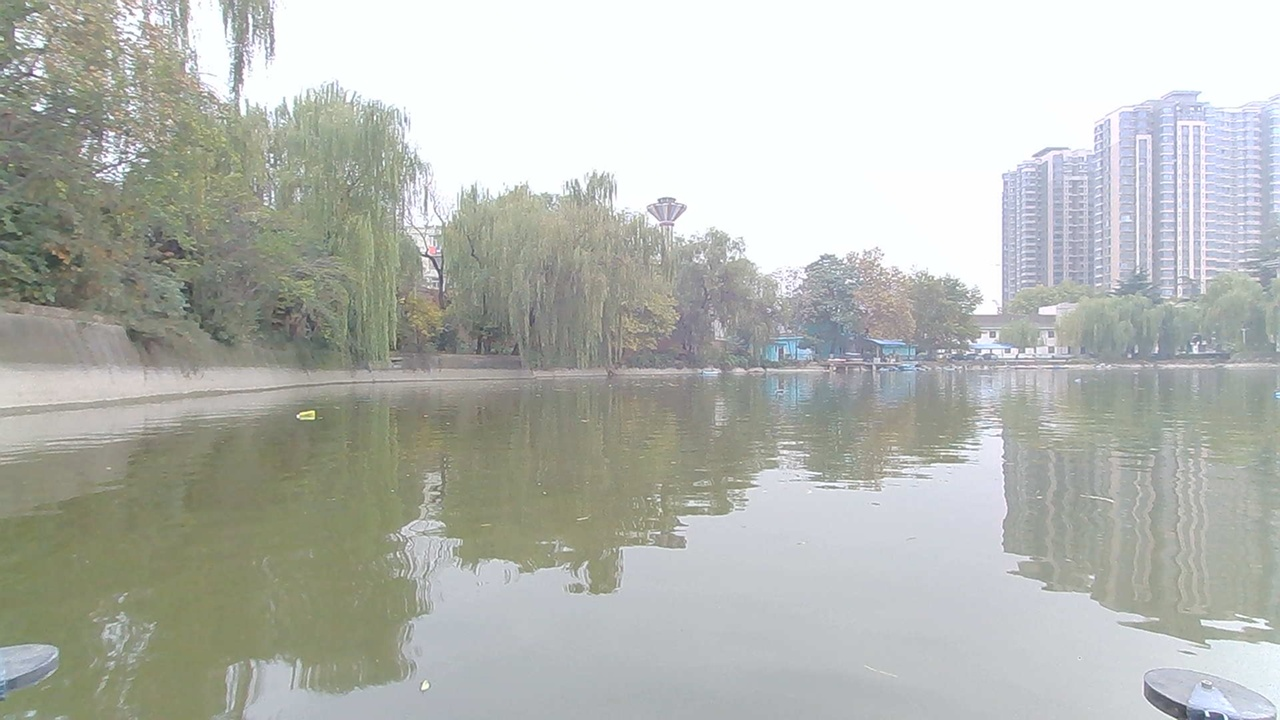bottle: (292, 405, 326, 428), (766, 387, 795, 402)
